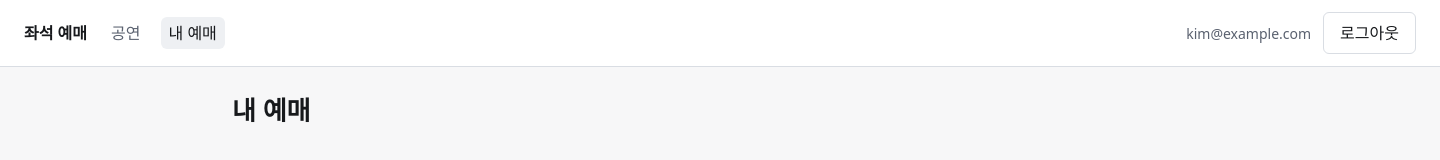
Test: 머리말과 로그아웃 › 로그인이 필요한 화면에서 로그아웃하면 공개 화면(공연 목록)에서 끝나고, 멱등 키와 고른 좌석을 지운다
Click the button "로그아웃". click: {"x": 1370, "y": 33}
box: [1323, 12, 1416, 54]
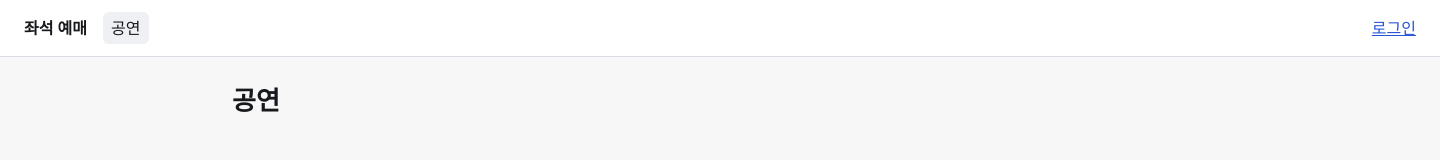
Check: the link "로그인" is shown, box [1372, 16, 1416, 40]
